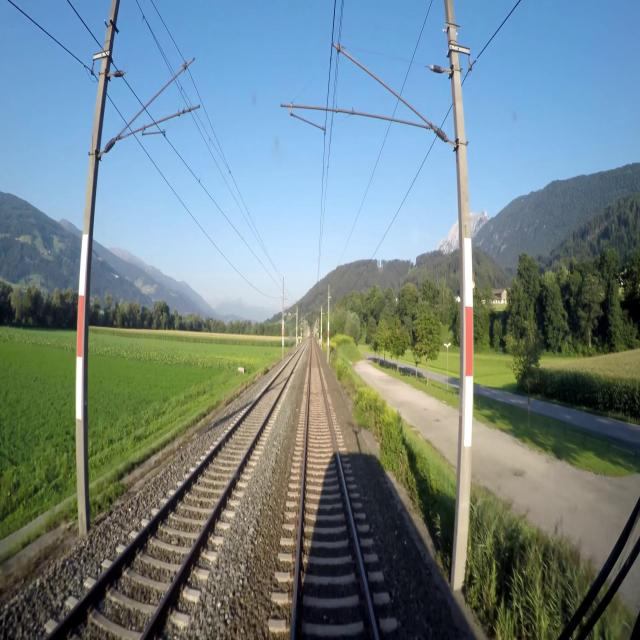rail-track: (51, 350, 301, 639), (296, 344, 374, 639)
